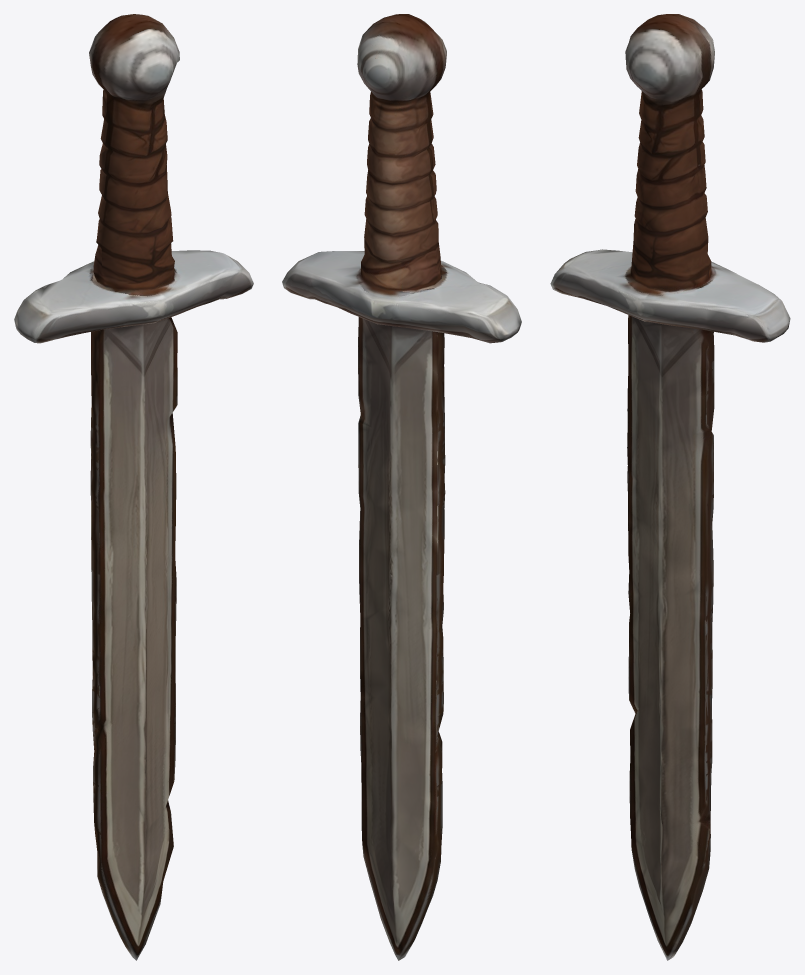
Rendered from SM_Gear_Sword.fbx.
3 renders of one model, left to right at view 1: azimuth 30°, elevation 25°; view 2: azimuth 150°, elevation 25°; view 3: azimuth 330°, elevation 25°, orthographic.
Visible parts, largest first — view 1: SM_Gear_Sword; view 2: SM_Gear_Sword; view 3: SM_Gear_Sword.
Boxes of the visible parts, bbox=[...] form: SM_Gear_Sword: bbox=[14, 14, 253, 960]; SM_Gear_Sword: bbox=[282, 14, 521, 960]; SM_Gear_Sword: bbox=[550, 14, 790, 960].
Bounding box in the file's own units: 0.1876 × 0.75 × 0.0868.
